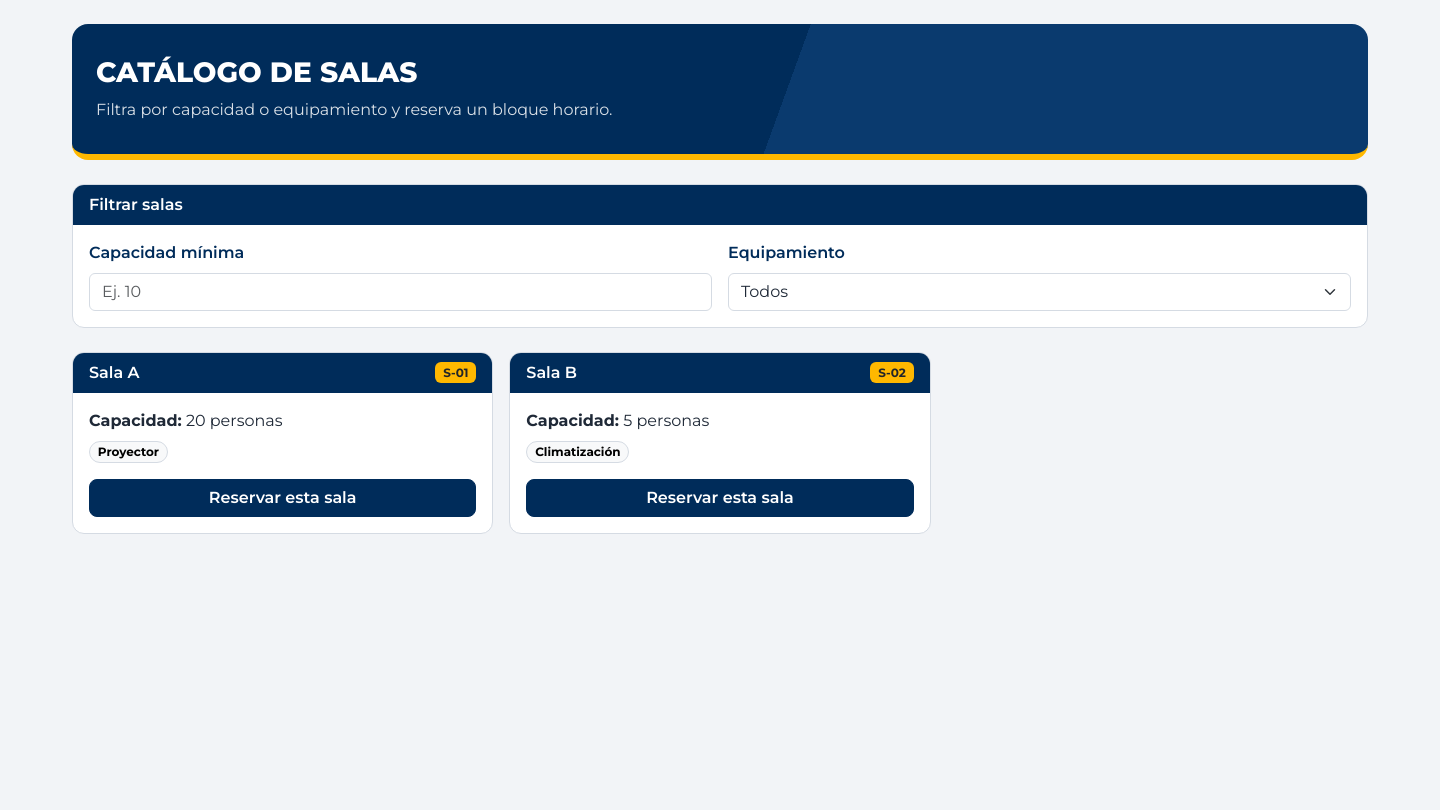
Página de Salas › valida el formulario: no agrega nada si faltan el bloque y la actividad
This screenshot has width=1440, height=810.
Click the button "Reservar esta sala" below "Proyector". click: (283, 498)
box: [89,479,476,517]
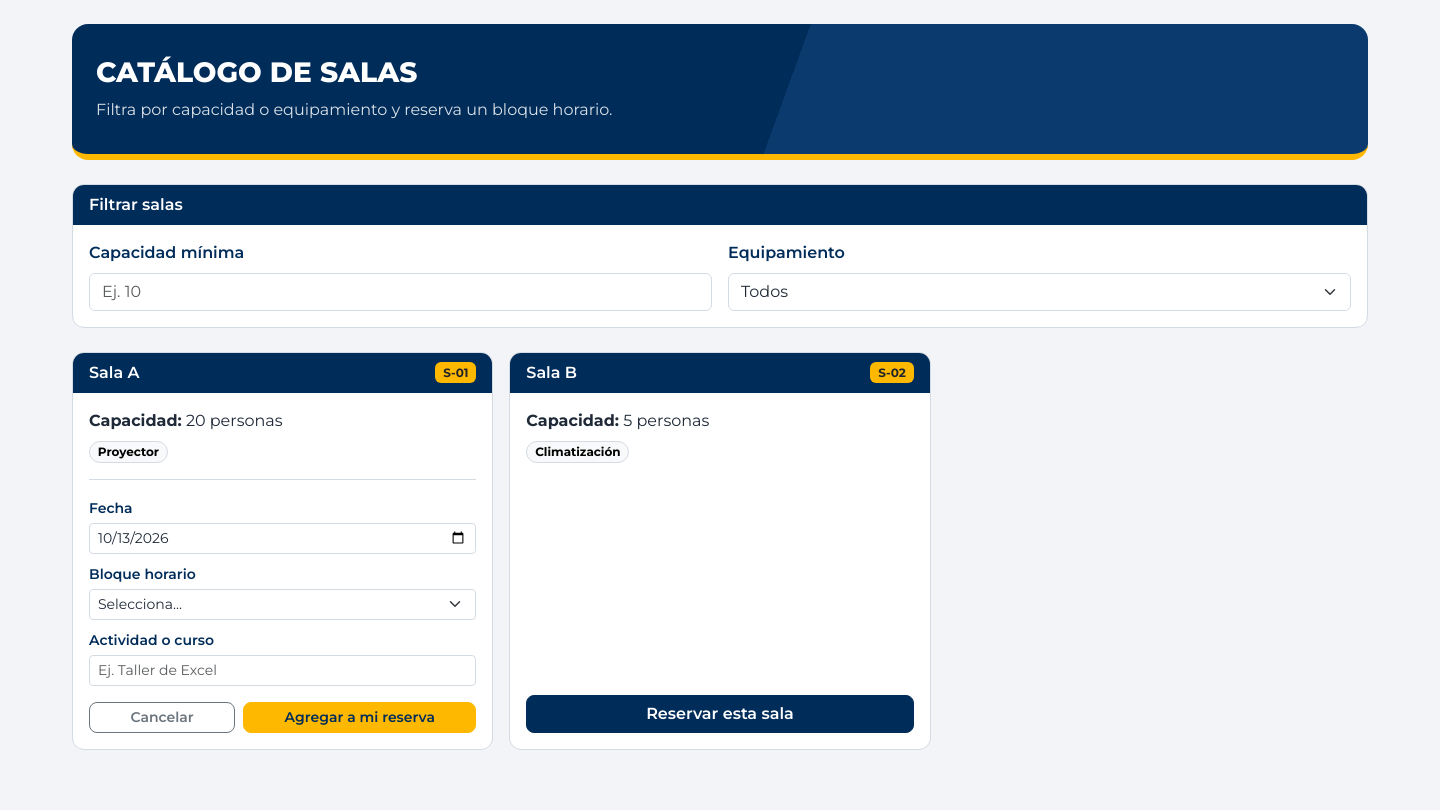
Click the button "Agregar a mi reserva". click: (360, 718)
box: [243,702,476,733]
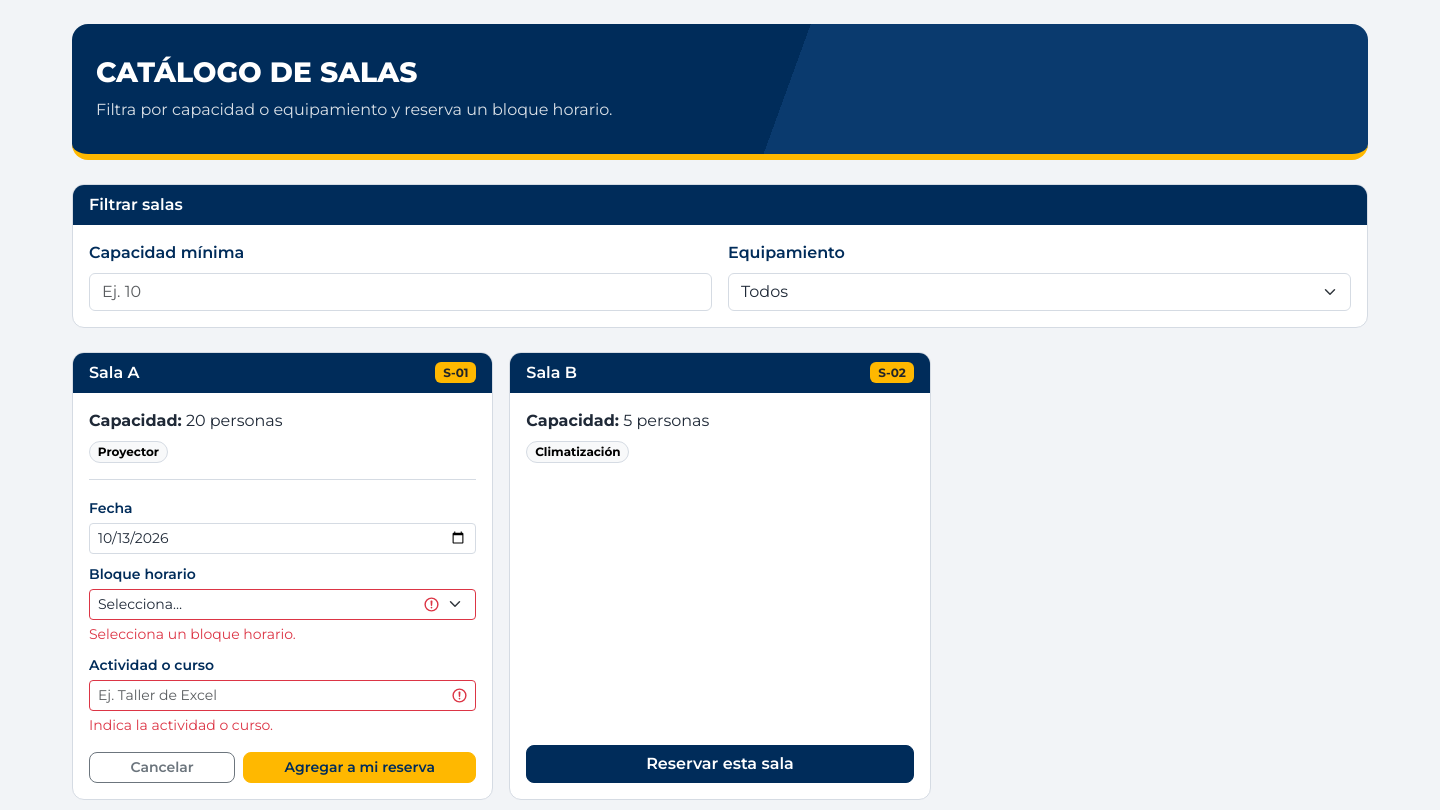
Expected: the text "Selecciona un bloque horario." is shown, [89,625,296,643]
Expected: the text "Indica la actividad o curso." is shown, [89,716,273,734]
